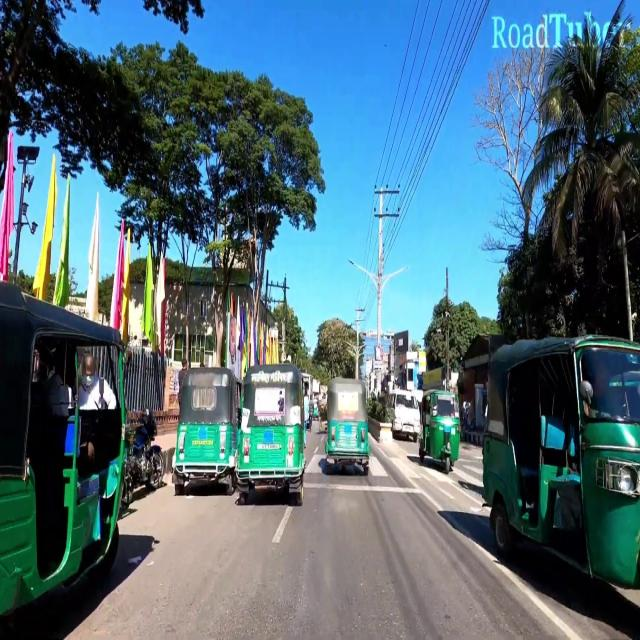white: (386, 389, 421, 440)
